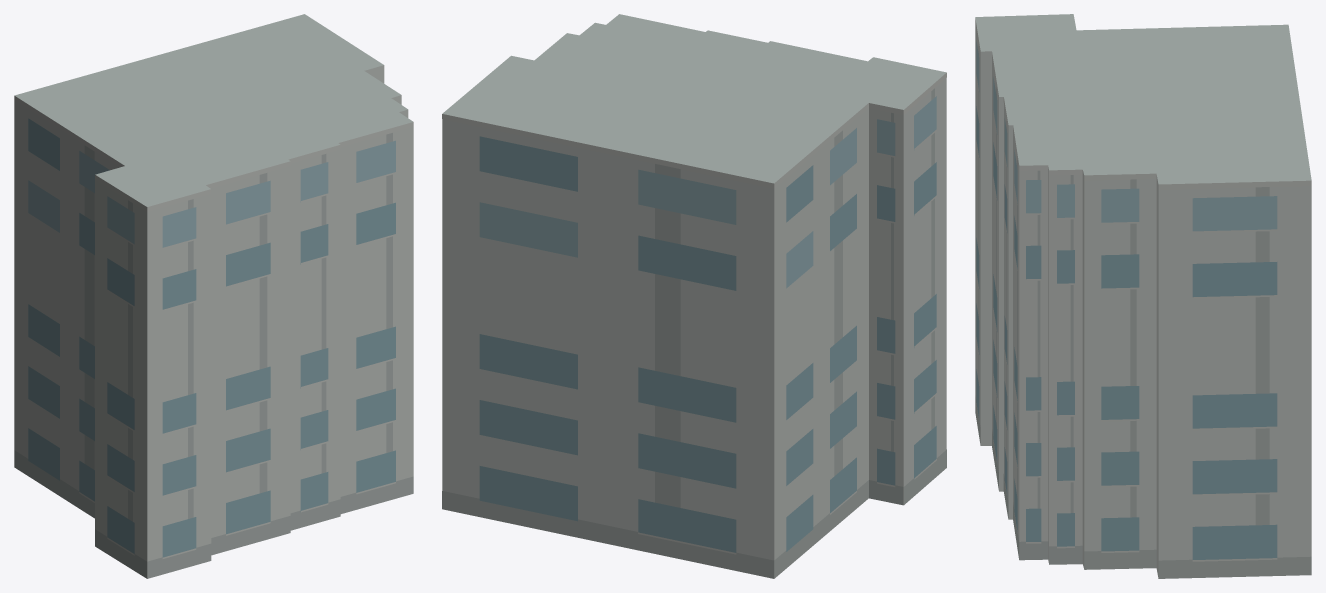
Rendered from survey-upis-32791234.glb.
3 renders of one model, left to right at view 1: azimuth 30°, elevation 25°; view 2: azimuth 150°, elevation 25°; view 3: azimuth 270°, elevation 25°, orthographic. The views are drawn at different scales.
Visible parts, largest first — view 1: survey-upis-32791234.tmp; view 2: survey-upis-32791234.tmp; view 3: survey-upis-32791234.tmp.
Boxes of the visible parts, x1,y1,x2,y2 form: survey-upis-32791234.tmp: [14, 14, 413, 578]; survey-upis-32791234.tmp: [442, 14, 946, 578]; survey-upis-32791234.tmp: [975, 14, 1311, 578].
Bounding box in the file's own units: 16.97 × 18.3 × 14.16.
